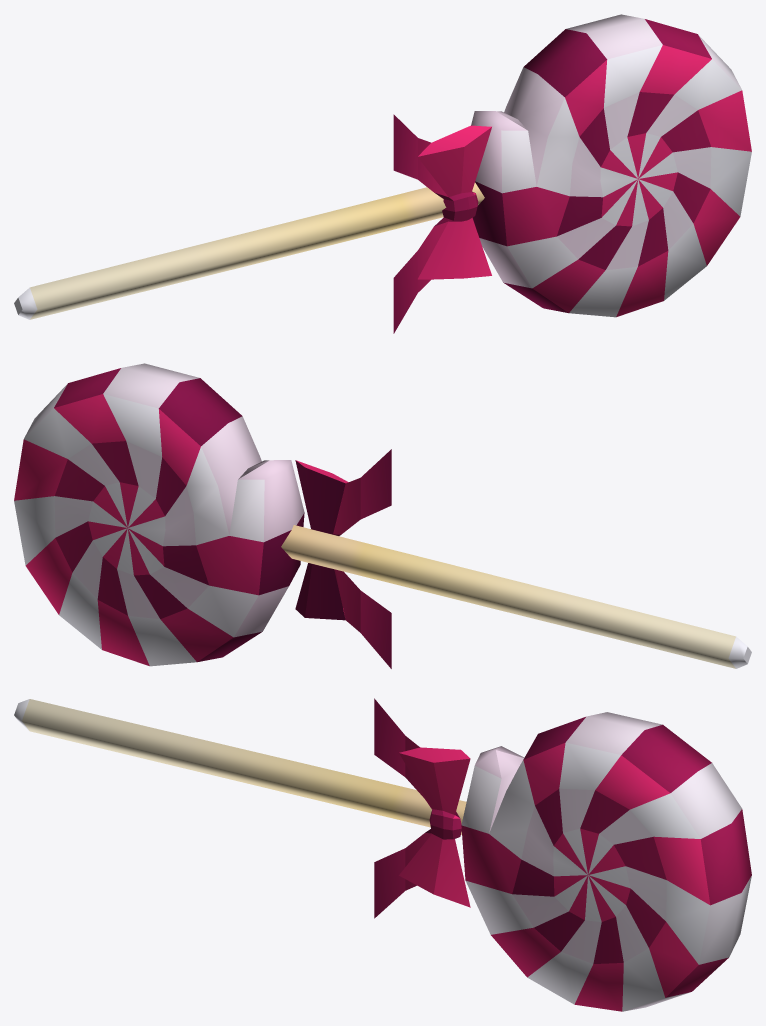
Rendered from weapon_41.FBX.
3 renders of one model, top to bottom at view 1: azimuth 30°, elevation 25°; view 2: azimuth 150°, elevation 25°; view 3: azimuth 330°, elevation 25°, orthographic.
Parts seen in each view (by area): view 1: weapon_41; view 2: weapon_41; view 3: weapon_41.
Boxes of the visible parts, x1,y1,x2,y2 form: weapon_41: (14,14,751,333); weapon_41: (14,363,751,668); weapon_41: (14,698,751,1011).
Bounding box in the file's own units: 86.85 × 32.42 × 10.41.
Materials: 1 (1 with a texture image).
